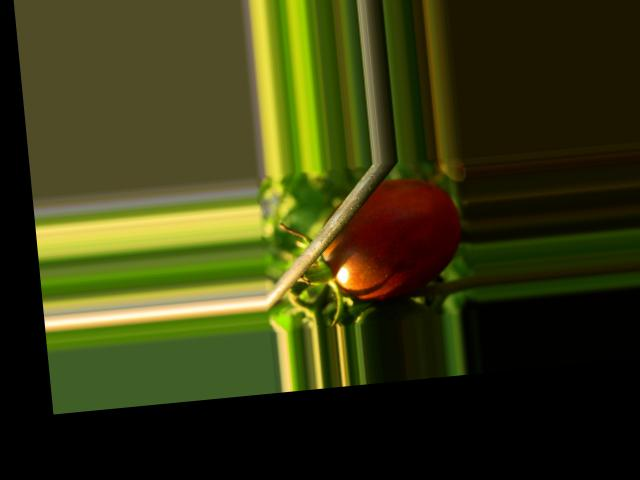tomato: (316, 175, 465, 303)
